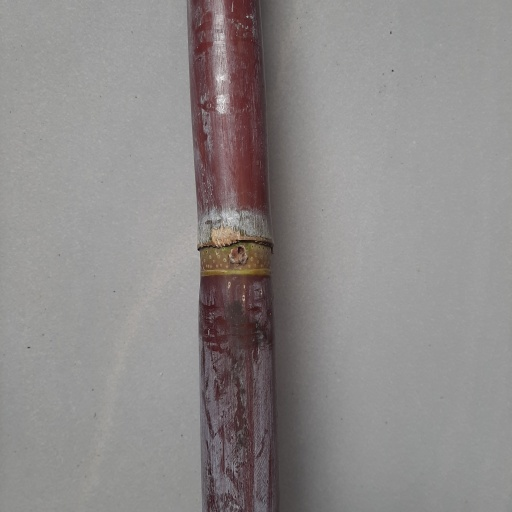Damage_Bud: (228, 243, 249, 266)
